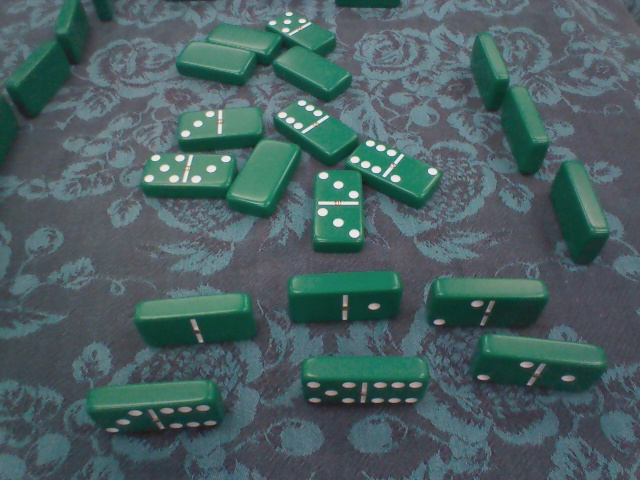A: (223, 131, 305, 215), (257, 40, 355, 96), (164, 34, 257, 86), (201, 19, 284, 65)
B: (345, 133, 444, 202), (272, 91, 363, 161), (307, 166, 372, 249), (261, 3, 346, 58), (140, 149, 232, 199), (173, 101, 271, 144)
C: (4, 41, 74, 111), (51, 1, 95, 62), (2, 92, 24, 169)
D: (542, 157, 614, 271), (499, 83, 546, 174), (460, 36, 512, 111)
E: (475, 325, 609, 405), (134, 288, 263, 353), (420, 270, 556, 331), (304, 347, 431, 411), (88, 381, 232, 431), (276, 270, 403, 325)
